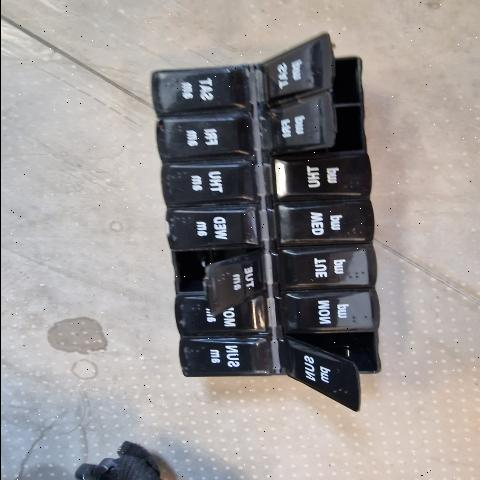Open: (272, 92, 363, 157), (174, 248, 261, 296), (290, 332, 379, 372), (326, 32, 362, 101)
